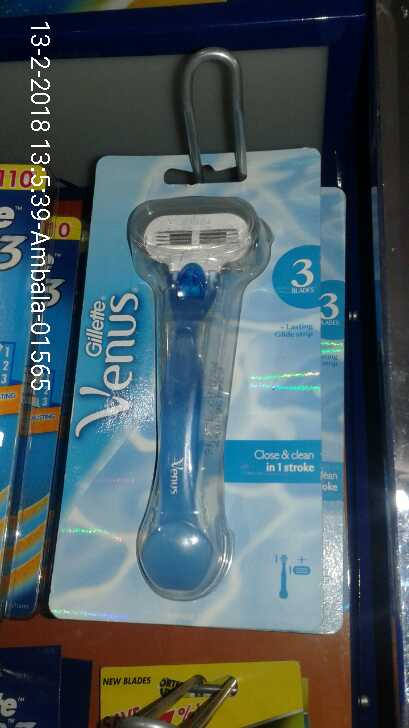venus: (72, 143, 333, 626)
